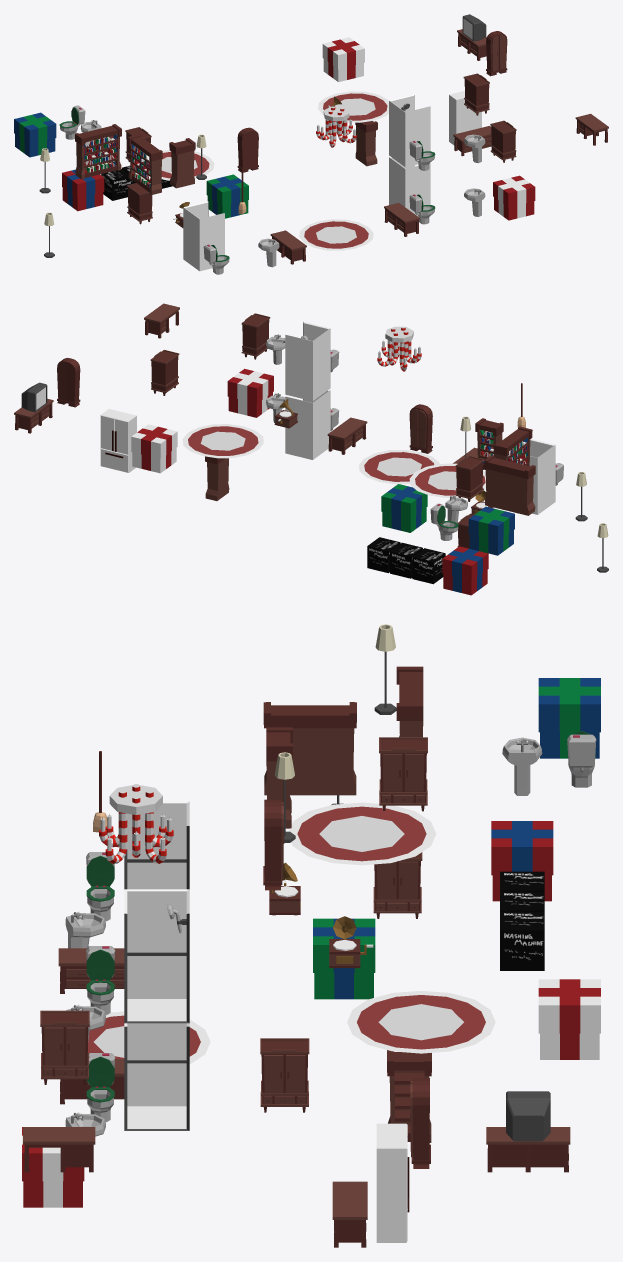
The model's file is Interactive.glb.
The picture shows the model from 3 angles, top to bottom: view 1: azimuth 30°, elevation 25°; view 2: azimuth 150°, elevation 25°; view 3: azimuth 270°, elevation 25°; orthographic projection. The views are drawn at different scales.
Visible parts, largest first — view 1: Shower, Shower.002, BookCaseLargeBooks.001, Rug.001, Shower.001, BookCaseLargeBooks, Present.003, Present.001, Present.002, Rug.002, Present, Present.004 (+23 smaller); view 2: Shower, BookCaseLargeBooks.001, Shower.001, Rug.002, Fridge, Rug.001, Present.002, Present.001, Present.004, Present, Present.003, Shower.002 (+19 smaller); view 3: Shower, Rug.002, Rug, Shower.001, BookCaseLargeBooks, Present.001, Present.002, Shower.002, Fridge, Present, Present.004, Closet2.001 (+29 smaller).
Part boxes in pixels (x1,y1,x2,y2): Shower: (389, 94, 430, 167); Shower.002: (183, 201, 224, 271); BookCaseLargeBooks.001: (75, 124, 121, 179); Rug.001: (299, 219, 373, 250); Shower.001: (389, 156, 430, 216); BookCaseLargeBooks: (128, 134, 162, 194); Present.003: (493, 175, 535, 220); Present.001: (322, 37, 364, 81); Present.002: (14, 112, 56, 157); Rug.002: (318, 91, 388, 122); Present: (206, 174, 248, 218); Present.004: (62, 169, 104, 211); Shower: (285, 321, 330, 401); BookCaseLargeBooks.001: (484, 455, 535, 515); Shower.001: (285, 390, 330, 459); Rug.002: (182, 424, 263, 458); Fridge: (100, 409, 136, 472); Rug.001: (359, 450, 439, 484); Present.002: (468, 506, 514, 555); Present.001: (131, 424, 177, 473); Present.004: (442, 546, 488, 595); Present: (381, 484, 427, 532); Present.003: (227, 368, 273, 417); Shower.002: (529, 439, 555, 514); Shower: (124, 889, 189, 1023); Rug.002: (347, 990, 495, 1053); Rug: (288, 802, 436, 865); Shower.001: (124, 1023, 189, 1130); BookCaseLargeBooks: (263, 702, 356, 795); Present.001: (538, 979, 600, 1059); Present.002: (538, 678, 600, 758); Shower.002: (124, 801, 189, 889); Fridge: (376, 1123, 409, 1242); Present: (313, 918, 375, 999); Present.004: (491, 821, 553, 901); Closet2.001: (40, 1010, 89, 1084).
Size of the model in its own units: 18.87 by 4.66 by 9.75.
30 materials, 1 textured.
